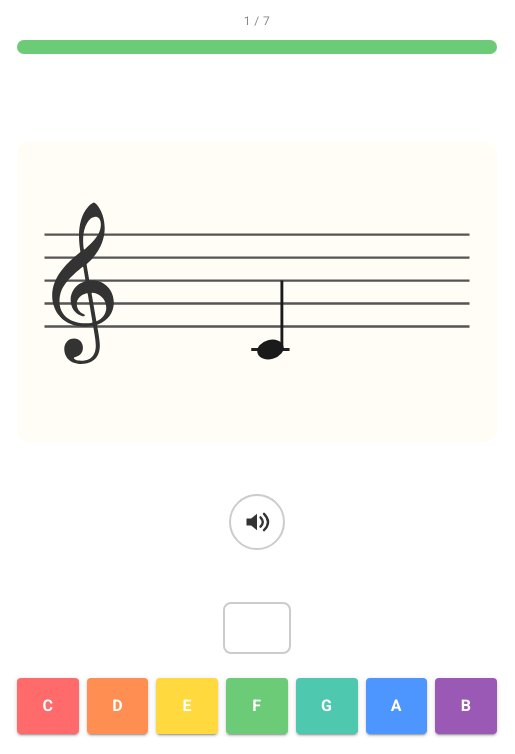
Test: labels both answers and the correct answer using en/letters
This screenshot has width=515, height=754.
Click the button "C": click(48, 706) [17, 678, 79, 734]
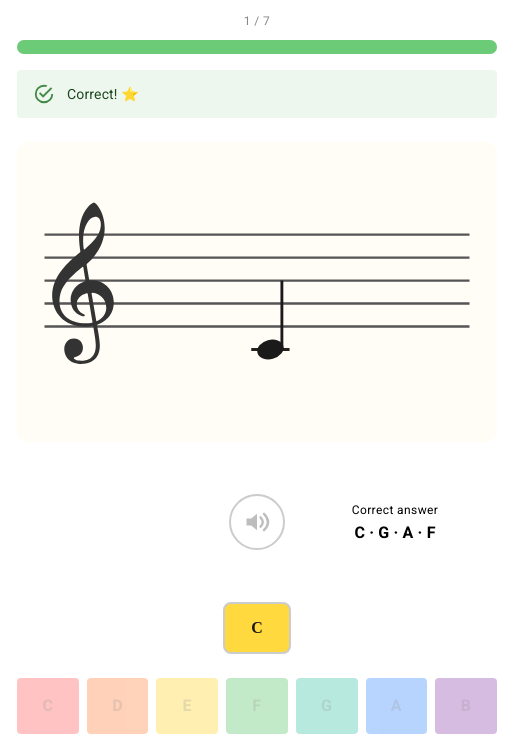
Expected: the element "Correct answer" is shown, [354, 522, 436, 541]
